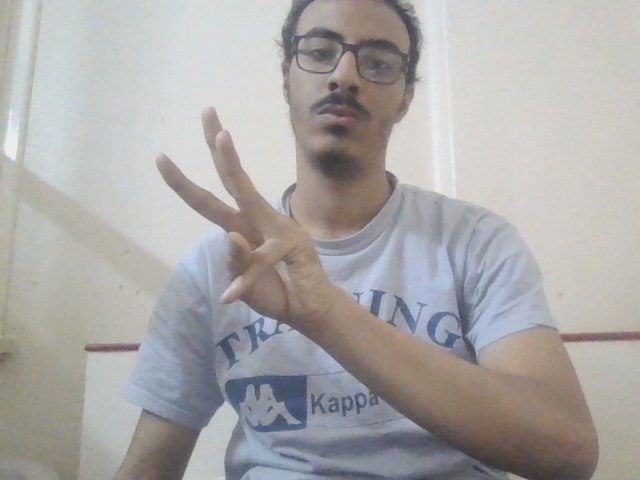Me: (138, 102, 345, 343)
